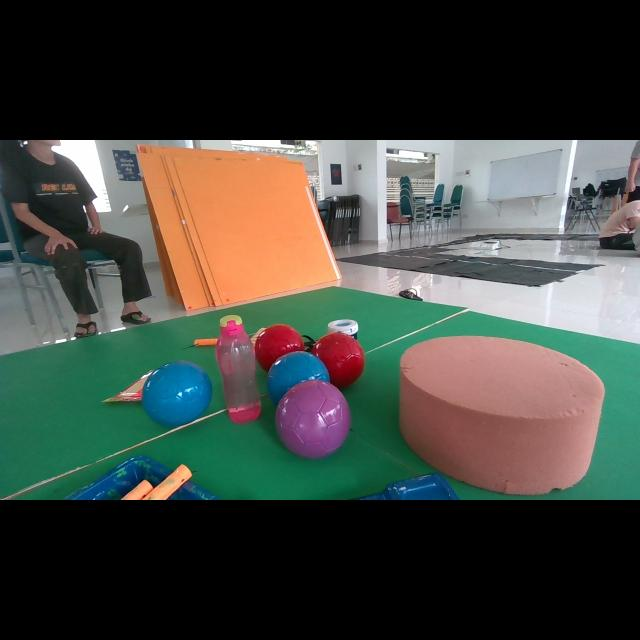B: (141, 361, 212, 427), (266, 351, 330, 405)
P: (275, 380, 351, 458)
R: (311, 332, 365, 388), (256, 325, 305, 372)
